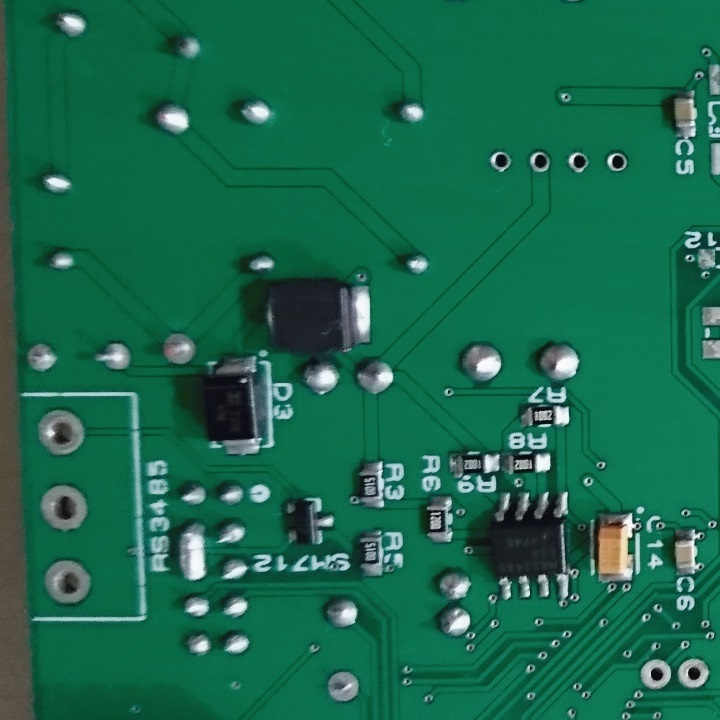F: (36, 480, 91, 535), (40, 556, 94, 610), (35, 406, 87, 460), (156, 328, 202, 369), (93, 339, 136, 378), (322, 667, 364, 706), (24, 340, 59, 379), (637, 657, 673, 692), (676, 658, 712, 693), (524, 147, 551, 176), (603, 149, 631, 176), (487, 147, 513, 175), (566, 149, 590, 176)
P: (175, 519, 210, 586)
